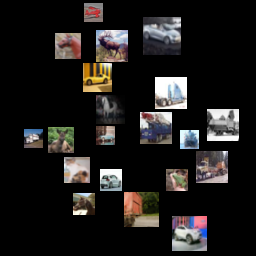airplane: (10, 120, 26, 136)
automobile: (176, 88, 208, 120), (108, 158, 137, 187), (81, 5, 107, 31)
bird: (140, 137, 178, 175), (210, 10, 229, 29)
cat: (10, 181, 45, 216), (168, 205, 194, 231), (60, 67, 79, 86)
deer: (214, 91, 252, 129)
dog: (155, 4, 193, 42), (23, 22, 55, 54)
frog: (199, 49, 234, 84), (116, 77, 151, 112), (46, 95, 78, 127)
ship: (5, 70, 31, 96), (107, 210, 129, 232)
